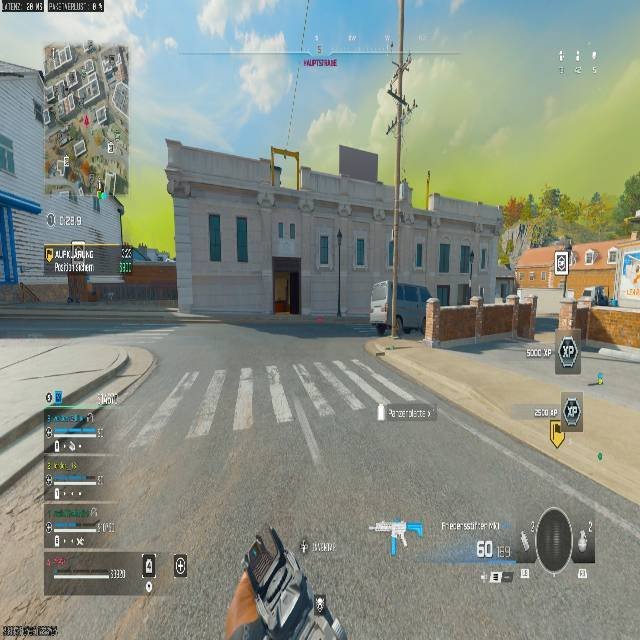player: (372, 63, 418, 137)
